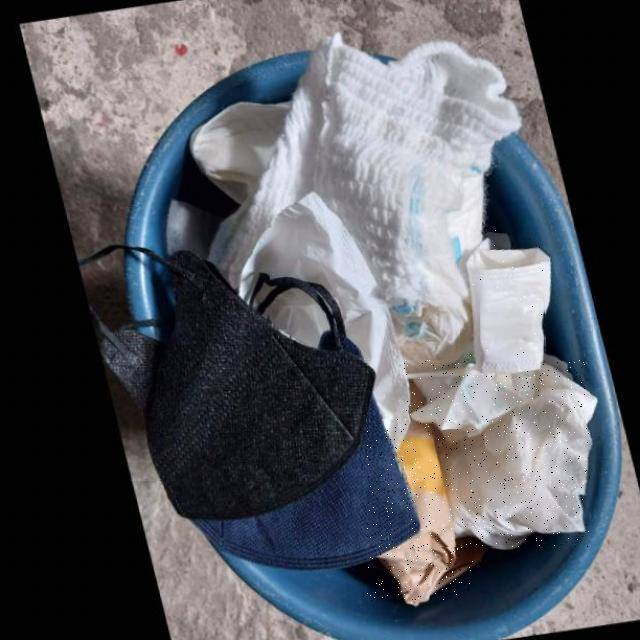paper: (402, 361, 590, 547), (368, 419, 475, 604), (460, 230, 545, 373)
